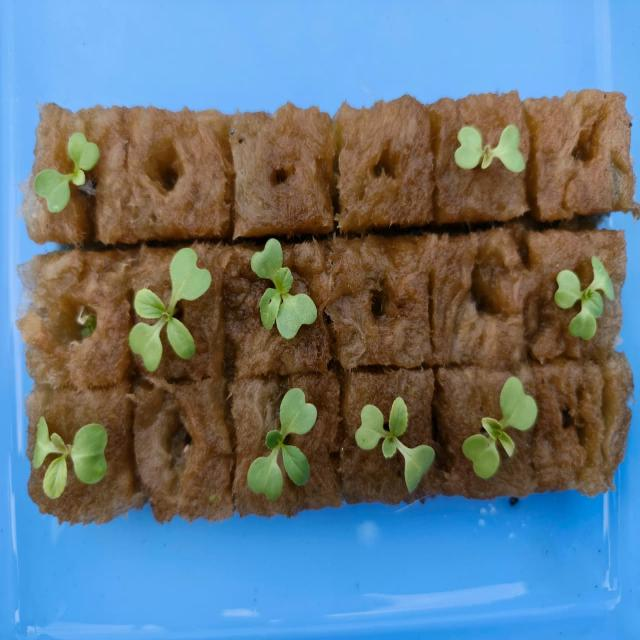daun-pakcoy: (168, 248, 211, 313), (70, 423, 107, 483), (500, 378, 537, 430), (276, 293, 316, 339), (129, 320, 164, 371), (280, 387, 316, 436), (248, 448, 282, 499), (34, 169, 72, 212), (463, 434, 499, 479), (68, 133, 99, 185), (404, 445, 434, 492), (494, 125, 524, 172), (355, 404, 385, 449), (251, 239, 282, 280), (280, 444, 310, 485), (454, 127, 483, 169), (133, 287, 169, 320), (43, 451, 68, 498), (31, 417, 54, 468), (588, 256, 614, 299), (167, 317, 194, 357), (554, 269, 580, 308), (570, 303, 596, 339), (260, 288, 280, 329), (388, 397, 408, 436), (582, 287, 602, 317), (480, 416, 502, 443), (272, 267, 292, 293), (498, 431, 514, 457), (266, 429, 283, 451), (382, 431, 396, 457)
